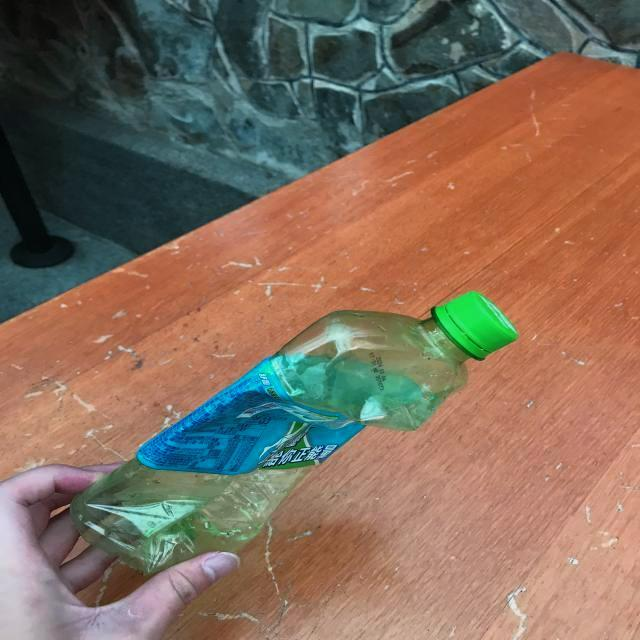bottle: (70, 291, 518, 576)
